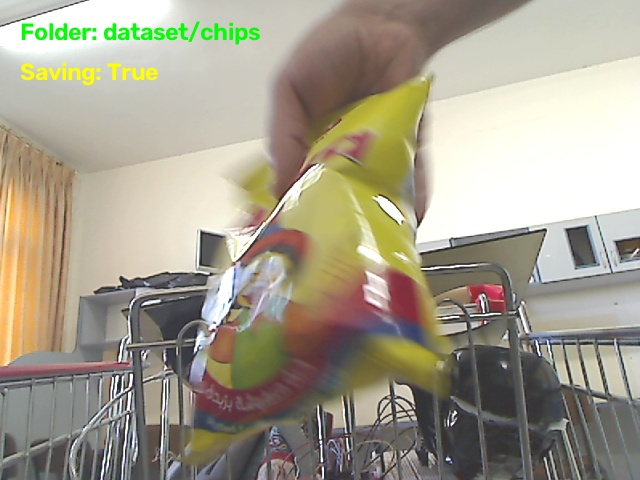chips: (184, 78, 445, 462)
